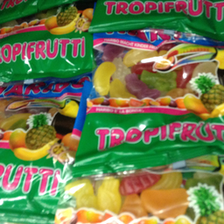candy: (74, 22, 224, 163), (1, 71, 97, 213), (49, 152, 224, 223)
